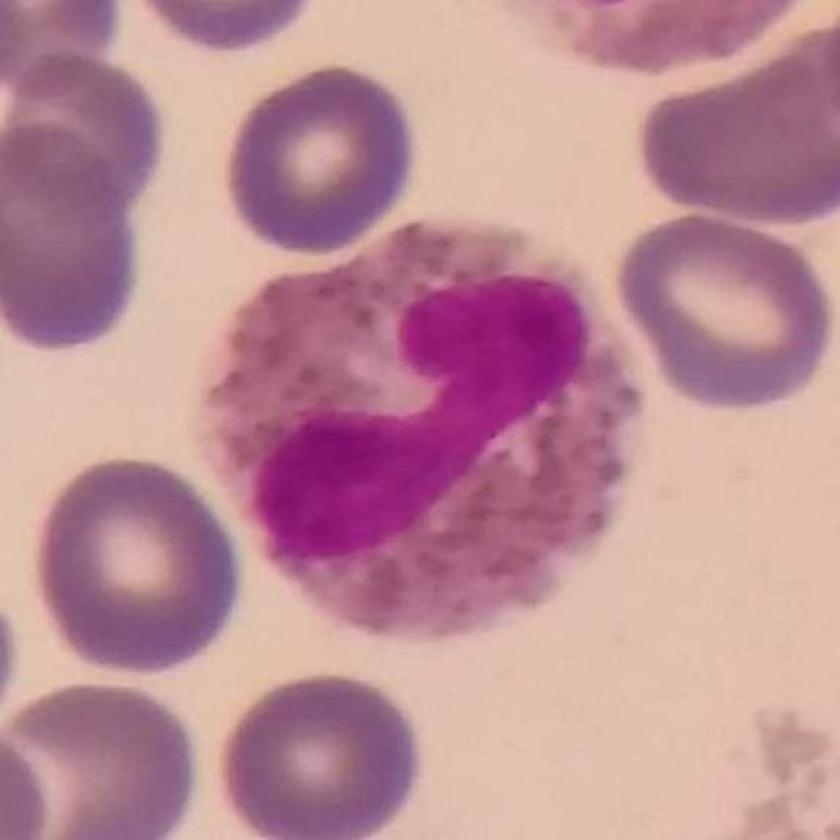eosinophil: (201, 199, 642, 651)
